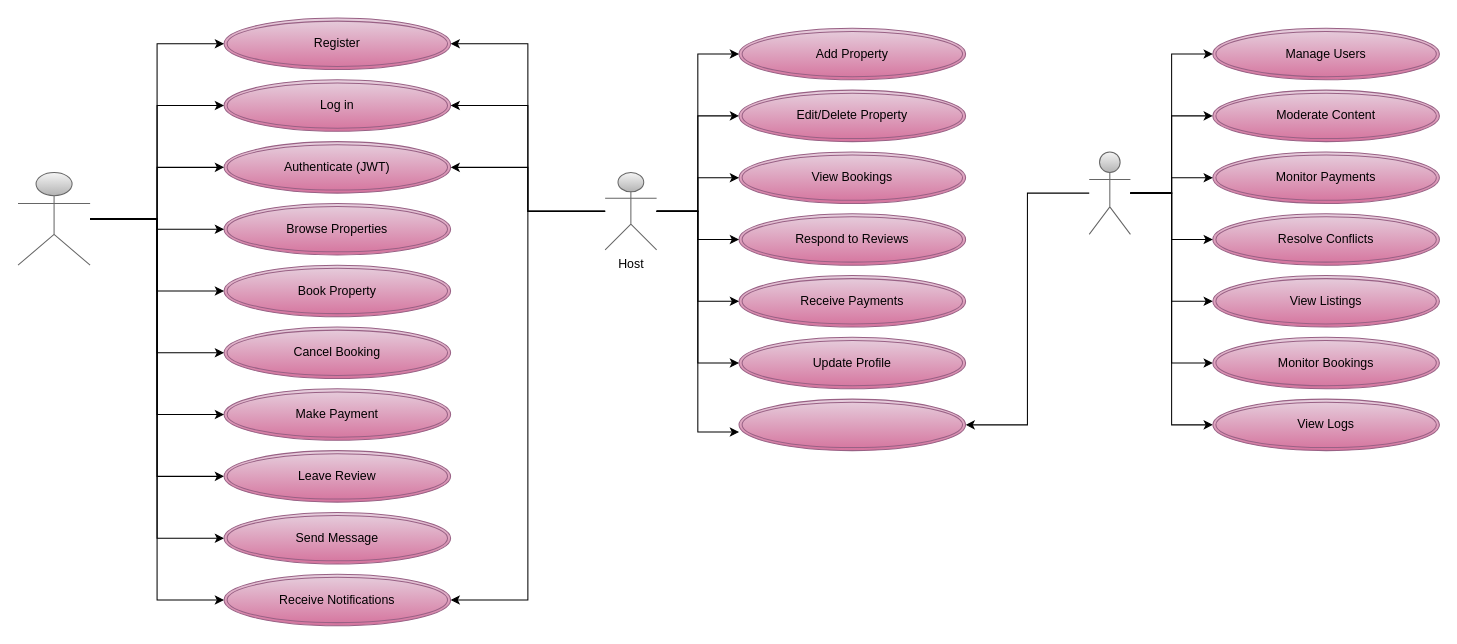
The diagram is 1457 pixels wide and 644 high, and some of its shapes have lost their labels. Here are the shapes that lost their labels. From the top down, the box of each, then its label:
(1088, 151, 1130, 234): Admin
(17, 171, 90, 265): Guest
(738, 398, 966, 451): Respond to Message
